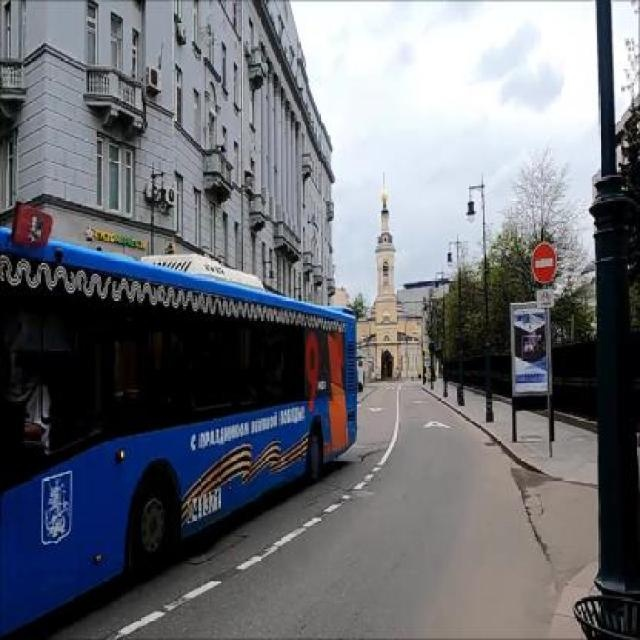Bus: (0, 203, 357, 622)
